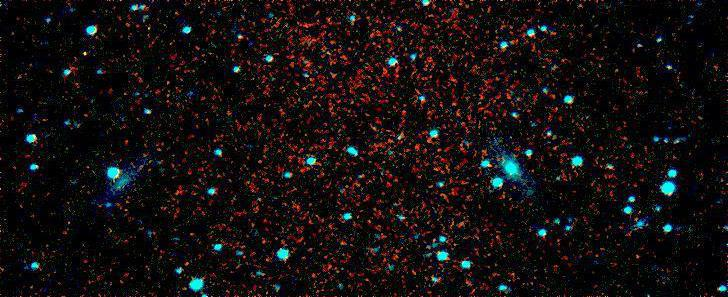star: (71, 34, 101, 64)
